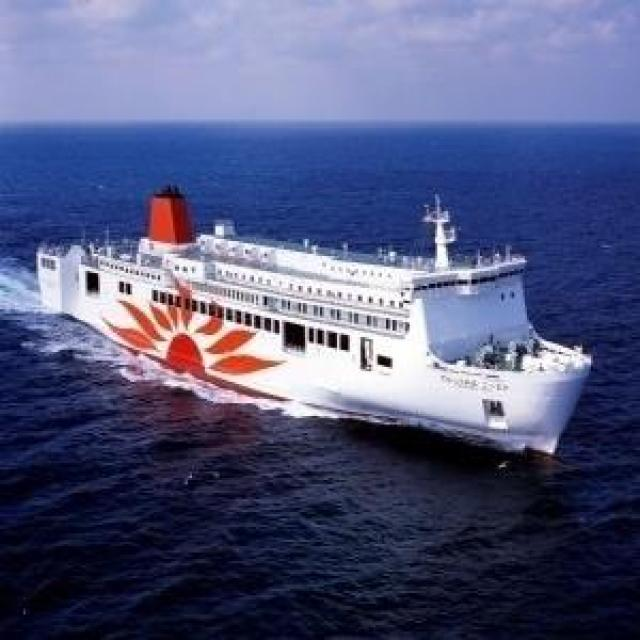cargoship: (30, 179, 591, 455)
